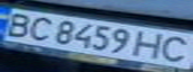4: (69, 21, 97, 51)
5: (90, 24, 115, 53)
8: (48, 18, 78, 47)
9: (109, 26, 133, 56)
B: (0, 9, 36, 38)
C: (157, 34, 193, 65), (21, 15, 57, 43)
H: (133, 29, 172, 61)
